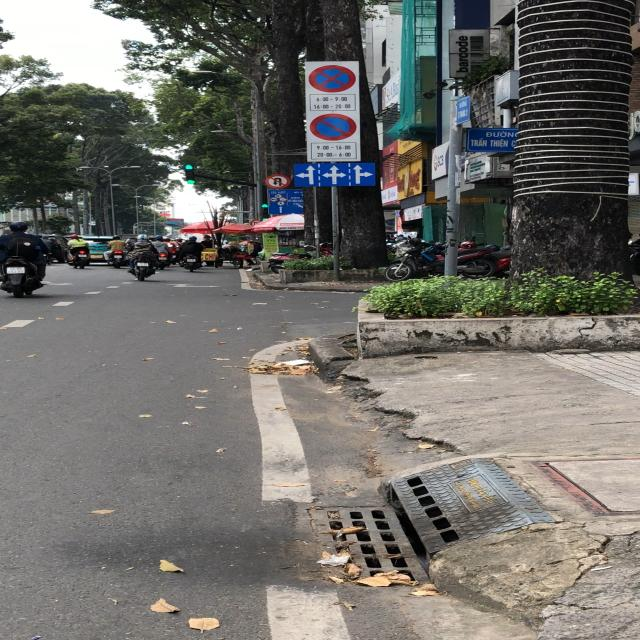Bien bao cam do xe: (308, 112, 357, 142)
Bien bao cam dung xe va do xe: (306, 65, 358, 93)
Bien bao cam quay dau xe: (264, 173, 294, 189)
